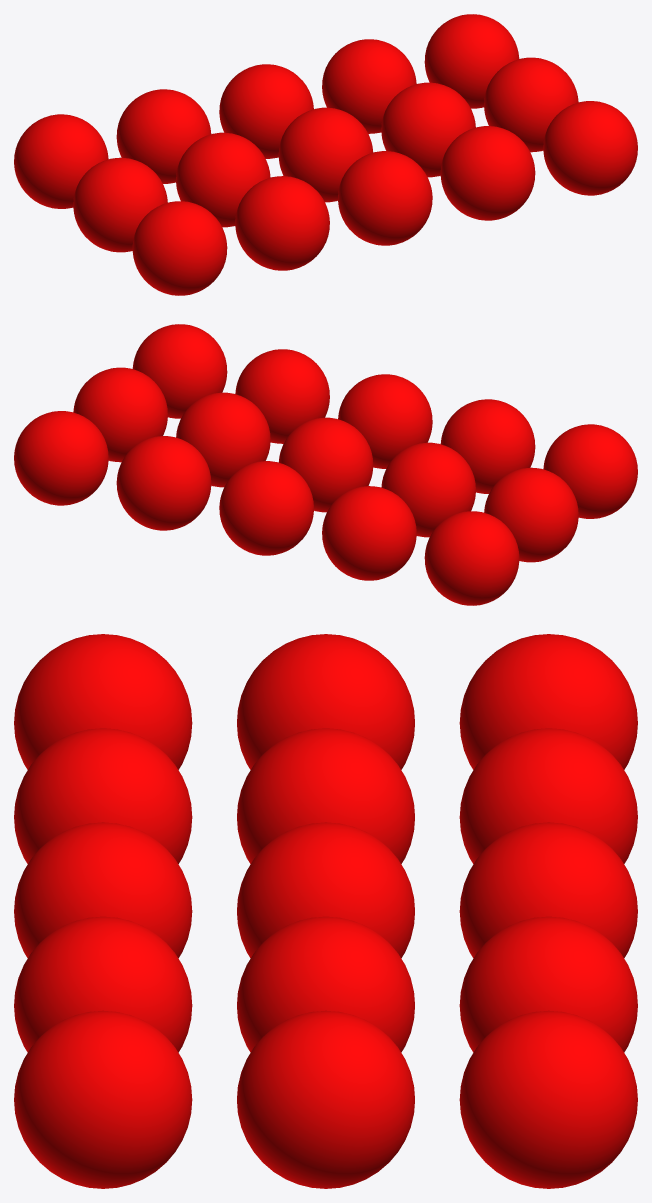
Rendered from spheres.glb.
The picture shows the model from 3 angles, top to bottom: view 1: azimuth 30°, elevation 25°; view 2: azimuth 150°, elevation 25°; view 3: azimuth 270°, elevation 25°; orthographic projection. The views are drawn at different scales.
Visible parts, largest first — view 1: s01, s03, s04, s02, s00, s10, s20, s11, s23, s13, s14, s12 (+3 smaller); view 2: s21, s23, s24, s22, s20, s10, s00, s11, s03, s13, s01, s14 (+3 smaller); view 3: s14, s04, s24, s03, s23, s01, s02, s22, s21, s13, s12, s10 (+3 smaller).
Part boxes in pixels (box(x1,y1,x2,y2)): s01: box(235, 176, 329, 270); s03: box(440, 126, 535, 220); s04: box(543, 101, 637, 195); s02: box(338, 151, 432, 245); s00: box(132, 201, 227, 295); s10: box(73, 157, 167, 252); s20: box(14, 114, 108, 208); s11: box(176, 132, 270, 227); s23: box(322, 39, 416, 133); s13: box(381, 82, 475, 177); s14: box(484, 57, 578, 152); s12: box(278, 107, 373, 202); s21: box(322, 486, 416, 580); s23: box(116, 436, 211, 530); s24: box(14, 411, 108, 505); s22: box(219, 461, 313, 555); s20: box(424, 511, 519, 605); s10: box(484, 467, 578, 562); s00: box(543, 424, 637, 518); s11: box(381, 442, 475, 537); s03: box(235, 349, 329, 443); s13: box(176, 392, 270, 487); s01: box(440, 399, 535, 493); s14: box(73, 367, 167, 462); s14: box(237, 1010, 414, 1188); s04: box(14, 1010, 192, 1188); s24: box(459, 1010, 637, 1188); s03: box(14, 916, 192, 1052); s23: box(459, 916, 637, 1052); s01: box(14, 728, 192, 863); s02: box(14, 822, 192, 958); s22: box(459, 822, 637, 958); s21: box(459, 728, 637, 863); s13: box(237, 916, 414, 1052); s12: box(237, 822, 414, 958); s10: box(237, 634, 414, 769).
Size of the model in its own units: 2.4 by 0.4 by 1.4.
